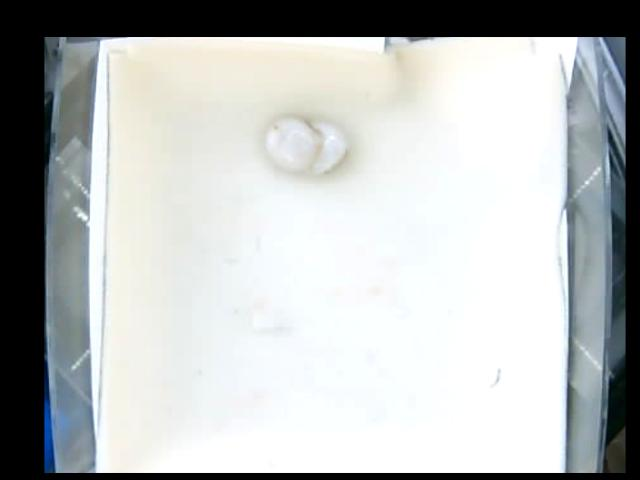Pebble: (267, 112, 344, 173)
